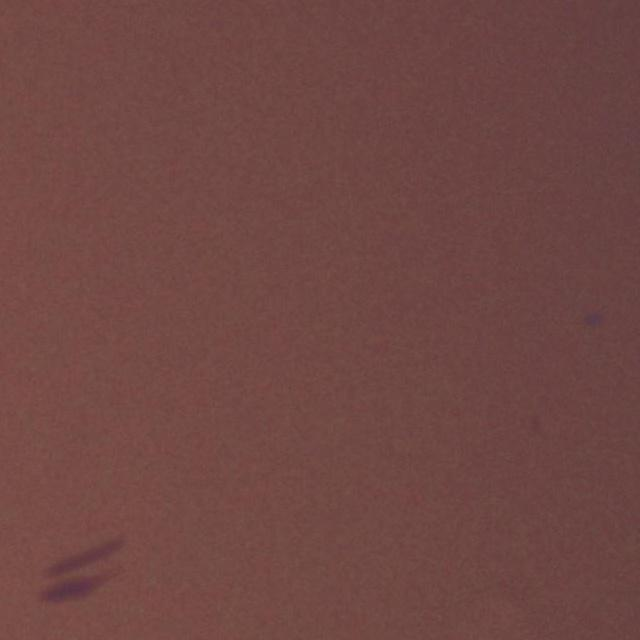monolayer-eWW4: (0, 534, 124, 578), (38, 571, 122, 602)
